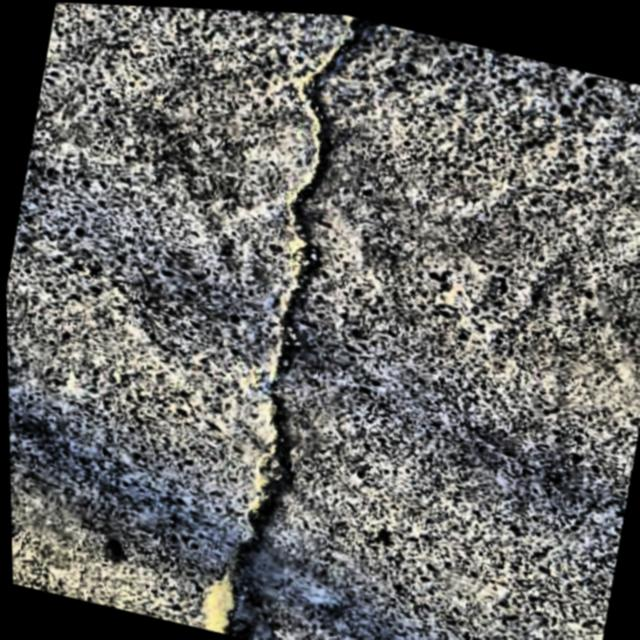Clogged Drains: (189, 11, 381, 640)
